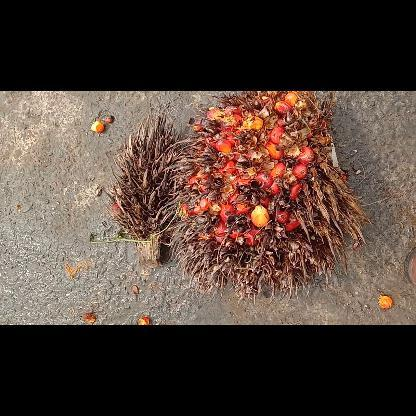Janjang kosong: (101, 112, 185, 266)
Terlalu masak: (163, 91, 369, 303)
